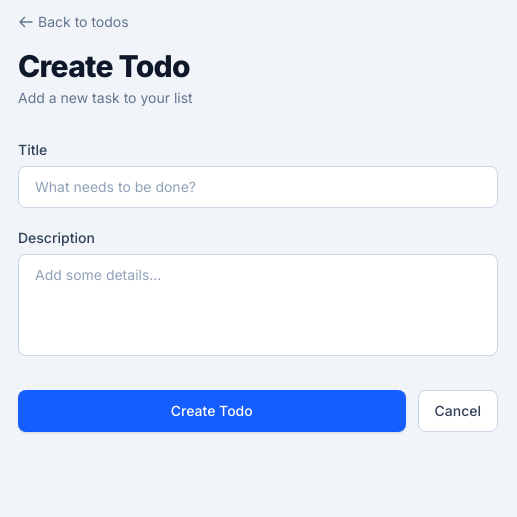
it: CreateTodoPage › should show an error if description is empty
In the field labelled "Title": (258, 187) [18, 166, 498, 208], type "My Todo"
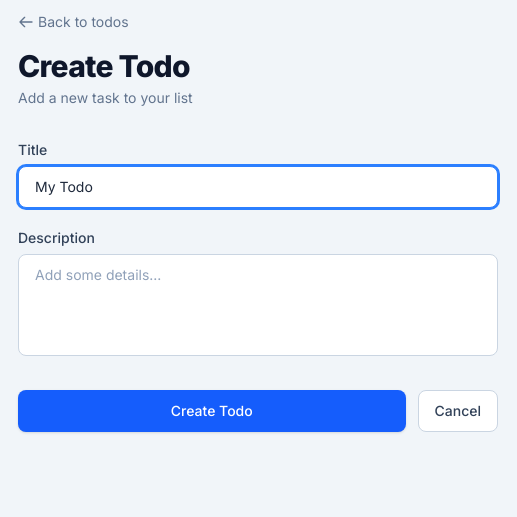
Click the button "Create Todo": (212, 411) [18, 390, 406, 432]
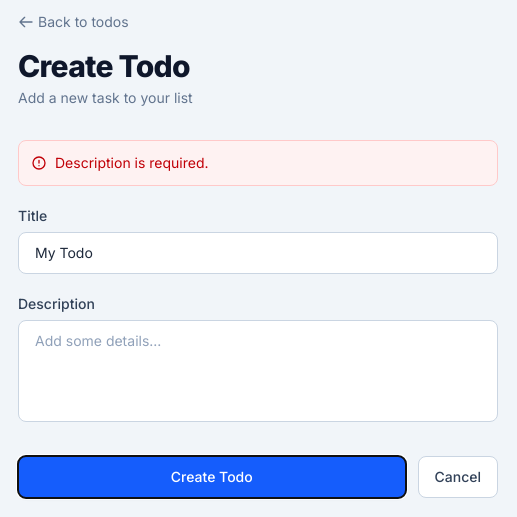
Result: the text "Description is required." is shown at [18, 140, 498, 186]
